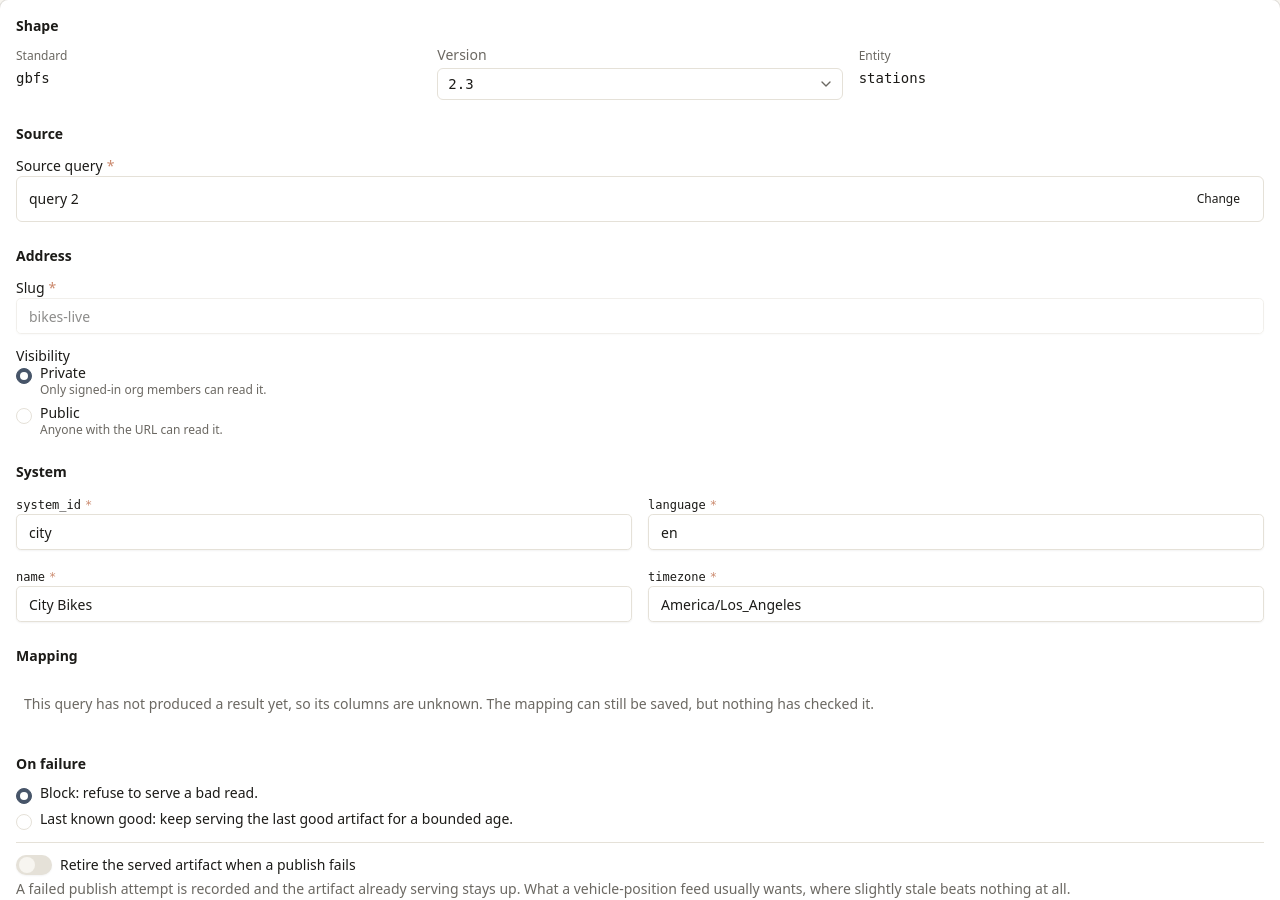
Test case: editing a gbfs binding › asks for the two extra fields 3.0 requires and 2.3 does not
The width and height of the screenshot is (1280, 900).
Expected: the text "feed_contact_email" is not shown
Click the dropdown named "version": {"x": 461, "y": 84} [437, 68, 843, 100]
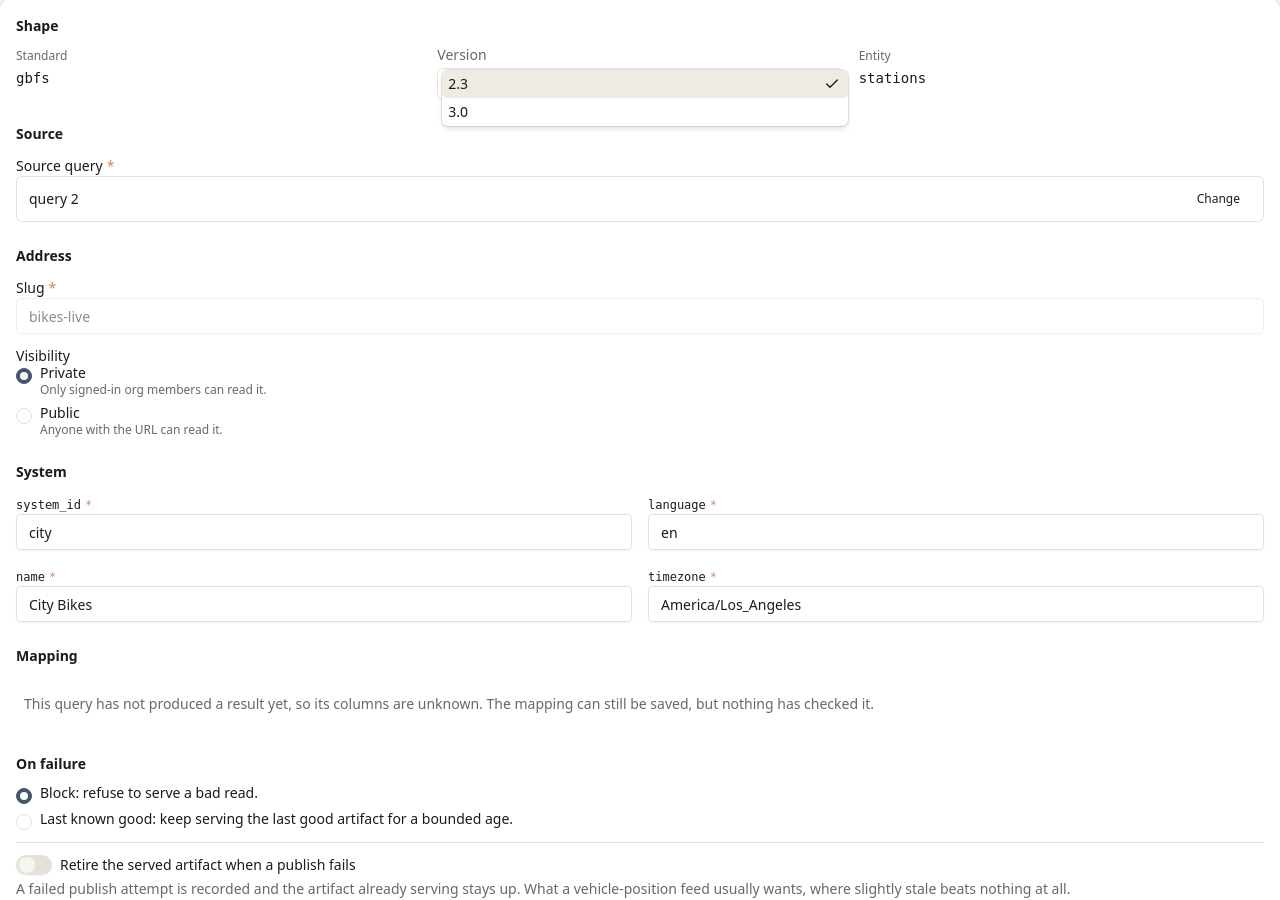
Click the option "3.0": {"x": 458, "y": 112} [448, 102, 468, 121]
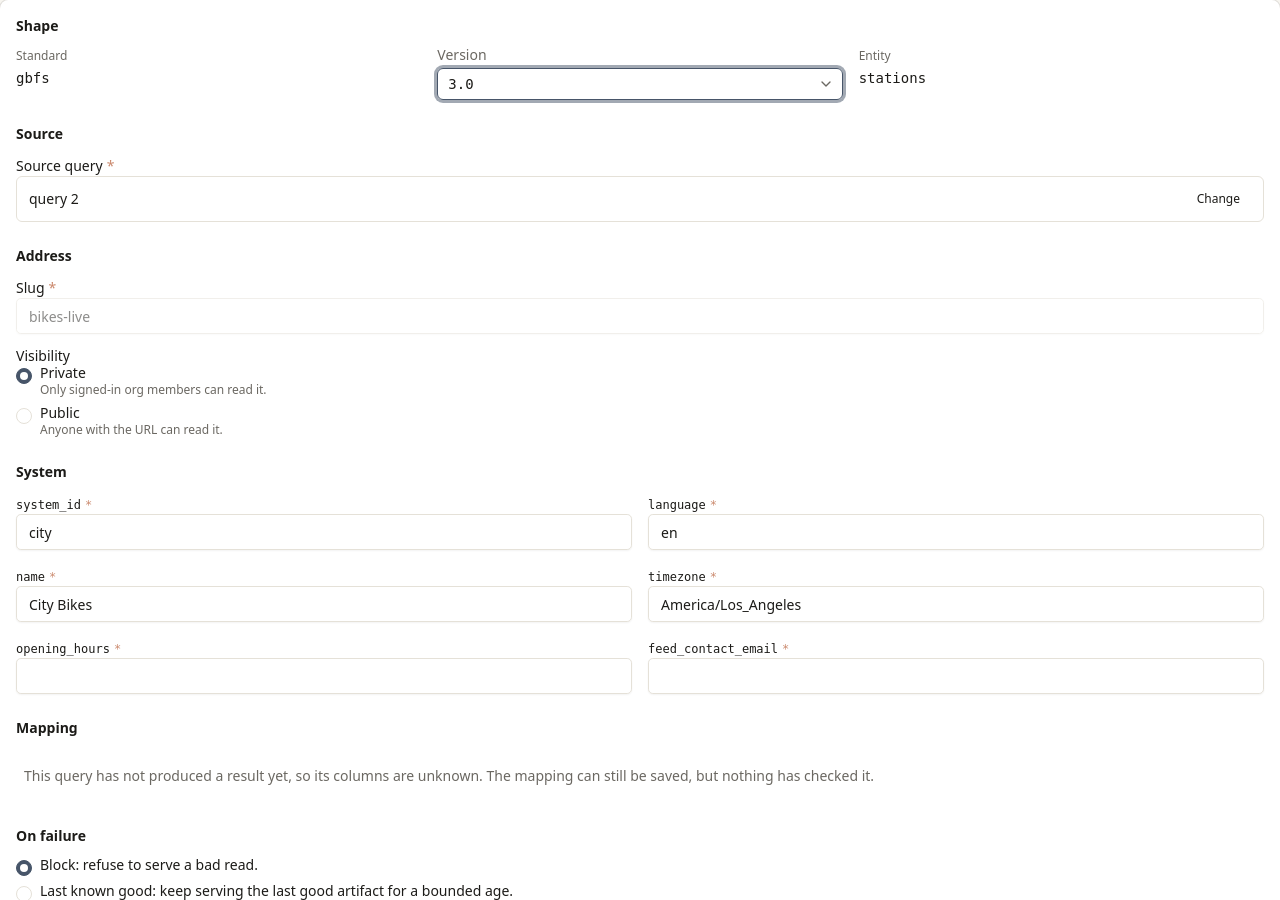
Now the text "feed_contact_email" is shown, box [648, 642, 778, 656]
Now the text "opening_hours" is shown, box [16, 642, 110, 656]
